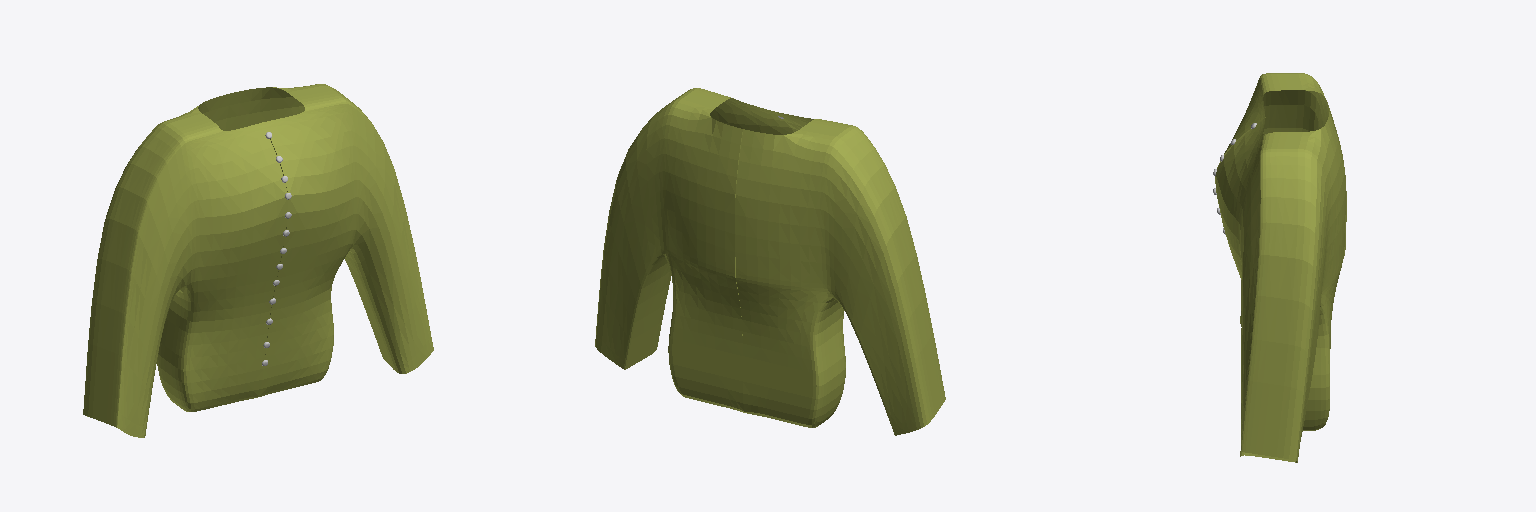
Rendered from Tshirt.obj.
3 renders of one model, left to right at view 1: azimuth 30°, elevation 25°; view 2: azimuth 150°, elevation 25°; view 3: azimuth 270°, elevation 25°, orthographic.
Visible parts, largest first — view 1: Plane; view 2: Plane; view 3: Plane.
Boxes of the visible parts, <box> form: Plane: <box>83,84,433,437</box>; Plane: <box>595,88,945,435</box>; Plane: <box>1215,73,1346,462</box>.
Size of the model in its own units: 2.34 by 1.94 by 0.8121.